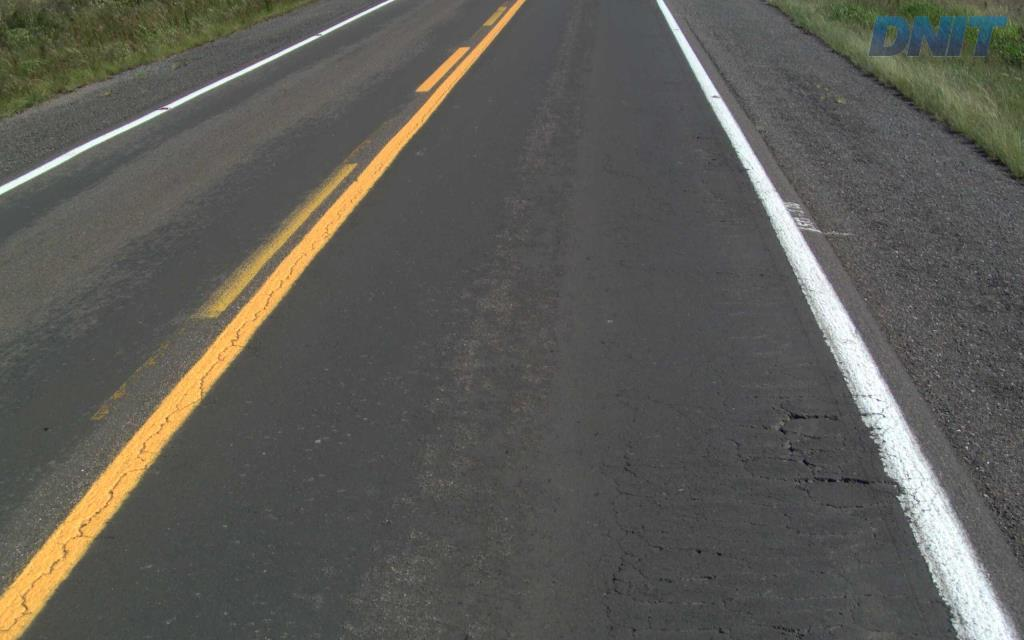crack: (773, 441, 867, 488), (766, 620, 814, 639)
